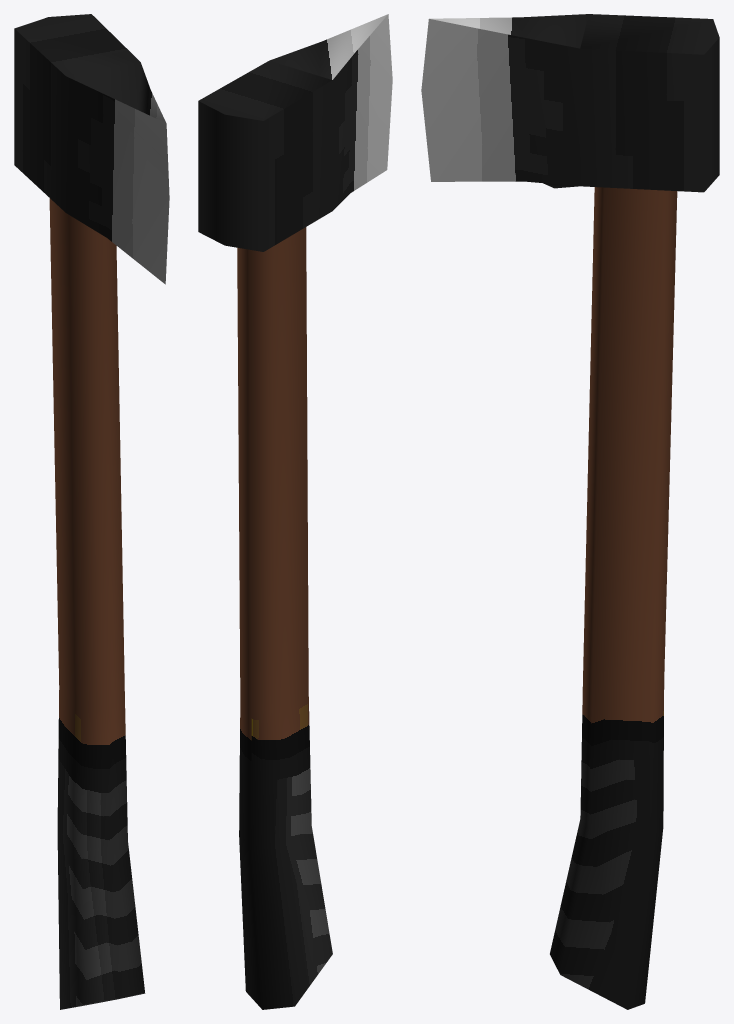
Rendered from Handy.fbx.
The picture shows the model from 3 angles, left to right: view 1: azimuth 30°, elevation 25°; view 2: azimuth 150°, elevation 25°; view 3: azimuth 270°, elevation 25°; orthographic projection. The views are drawn at different scales.
Visible parts, largest first — view 1: node_39df3d64_6280_4aec_ad14_dc9e555dd16d_mesh0; view 2: node_39df3d64_6280_4aec_ad14_dc9e555dd16d_mesh0; view 3: node_39df3d64_6280_4aec_ad14_dc9e555dd16d_mesh0.
Part boxes in pixels (<box>): node_39df3d64_6280_4aec_ad14_dc9e555dd16d_mesh0: <box>14,14,169,1009</box>; node_39df3d64_6280_4aec_ad14_dc9e555dd16d_mesh0: <box>198,14,392,1009</box>; node_39df3d64_6280_4aec_ad14_dc9e555dd16d_mesh0: <box>421,14,719,1009</box>.
Bounding box in the file's own units: 0.029 × 0.3233 × 0.0898.
